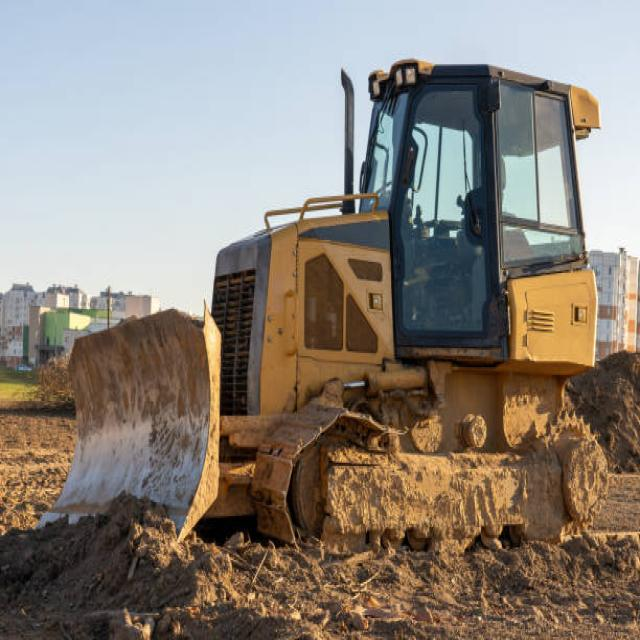buldozerpayloadergrader: (29, 49, 628, 556)
